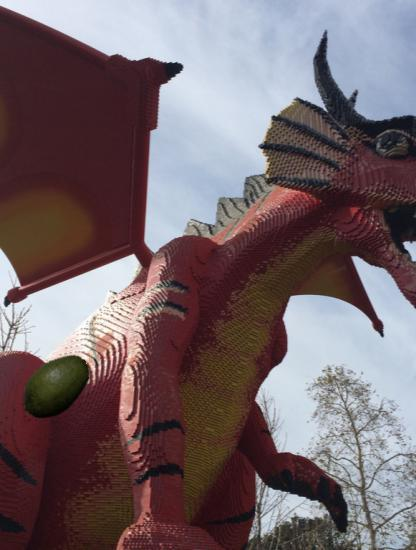Avocado: (18, 348, 95, 425)
